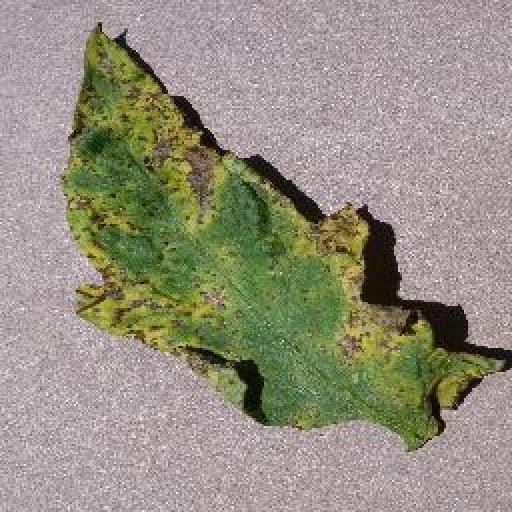Septoria: (59, 21, 504, 451)
